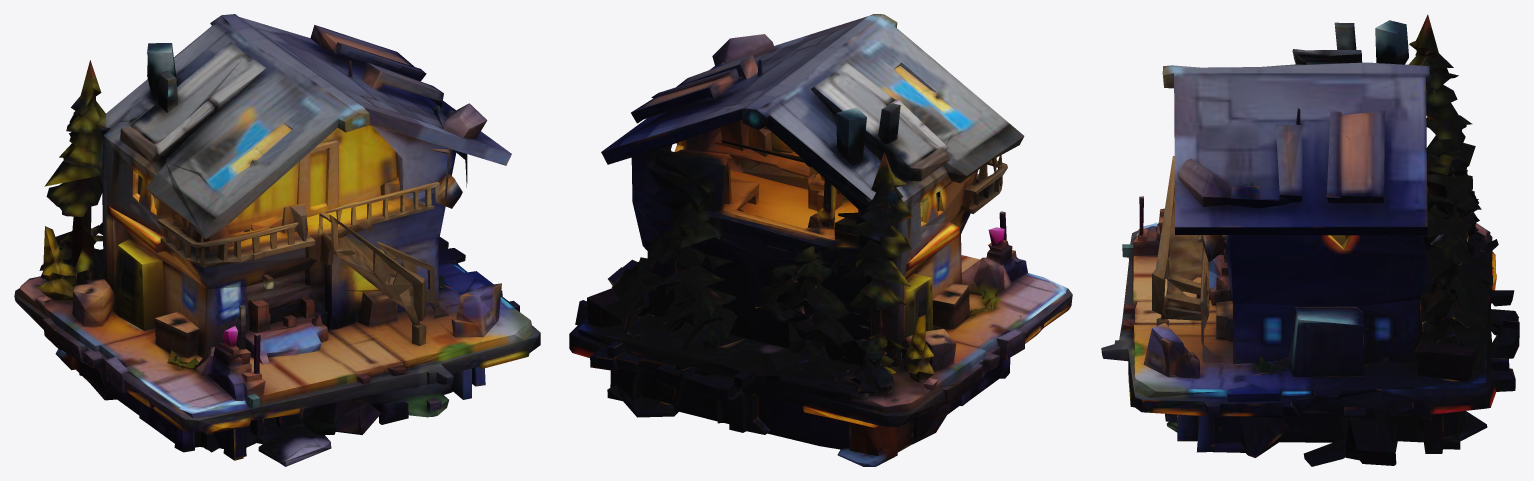
Rendered from prodsix-lo.glb.
3 renders of one model, left to right at view 1: azimuth 30°, elevation 25°; view 2: azimuth 150°, elevation 25°; view 3: azimuth 270°, elevation 25°, orthographic. The views are drawn at different scales.
Parts seen in each view (by area): view 1: world; view 2: world; view 3: world.
Part boxes in pixels (box(x1,y1,x2,y2)): world: box(14, 14, 540, 466); world: box(569, 14, 1072, 466); world: box(1101, 14, 1519, 466).
Size of the model in its own units: 0.989 by 0.8233 by 0.9611.
1 material, 1 textured.
